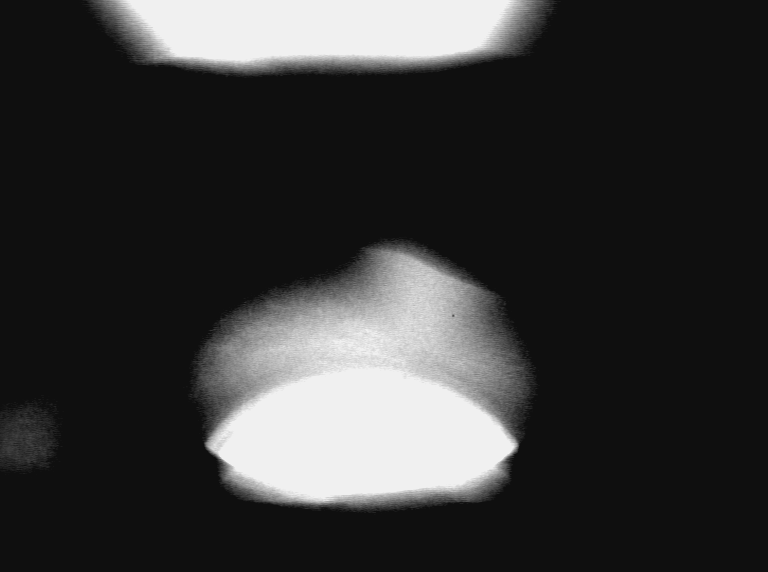defect: (365, 239, 501, 308)
